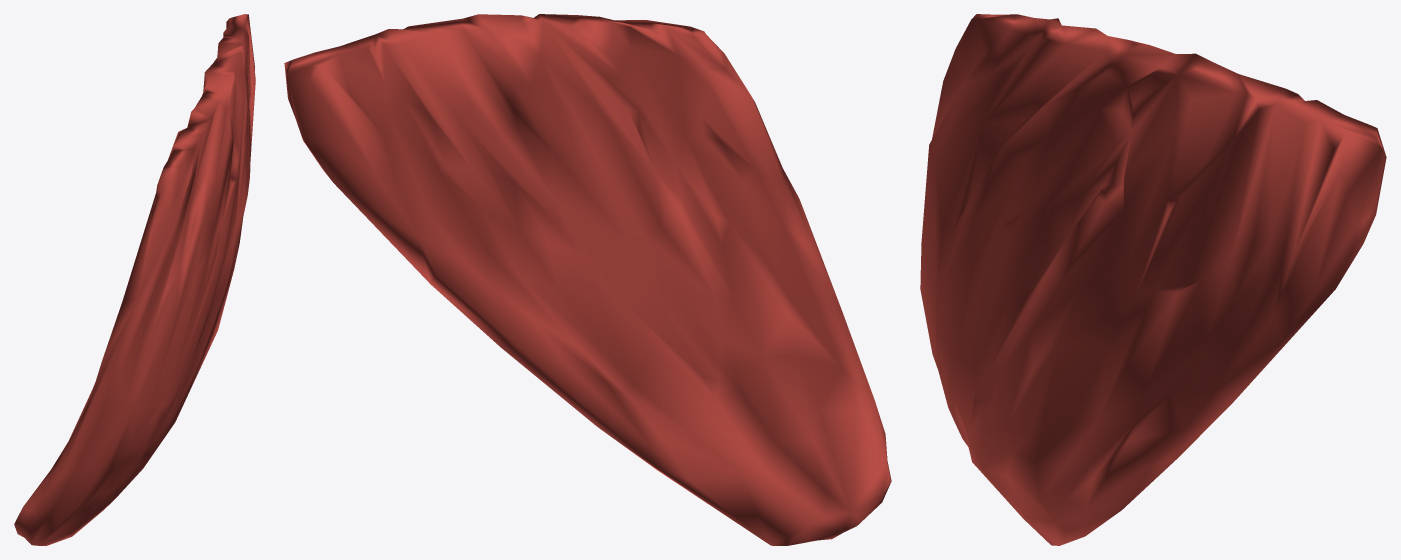
The model's file is musculos-straight-part-of-cricothyroid-muscle-l.glb.
3 views of the same model, side by side, from view 1: azimuth 30°, elevation 25°; view 2: azimuth 150°, elevation 25°; view 3: azimuth 270°, elevation 25° (orthographic). The views are drawn at different scales.
Parts seen in each view (by area): view 1: Straight part of cricothyroid muscle.l; view 2: Straight part of cricothyroid muscle.l; view 3: Straight part of cricothyroid muscle.l.
Boxes of the visible parts, x1=… form: Straight part of cricothyroid muscle.l: x1=14, y1=14, x2=255, y2=545; Straight part of cricothyroid muscle.l: x1=284, y1=14, x2=891, y2=545; Straight part of cricothyroid muscle.l: x1=920, y1=14, x2=1386, y2=545.
Bounding box in the file's own units: 0.00973 × 0.0103 × 0.00685.
